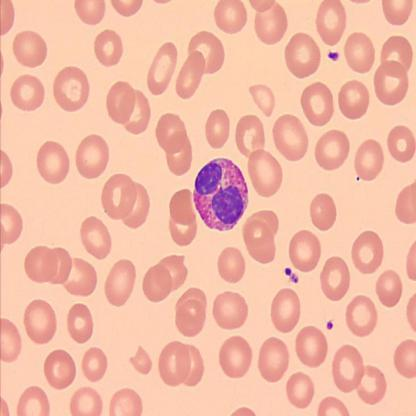Eosinophil: (194, 156, 251, 230)
